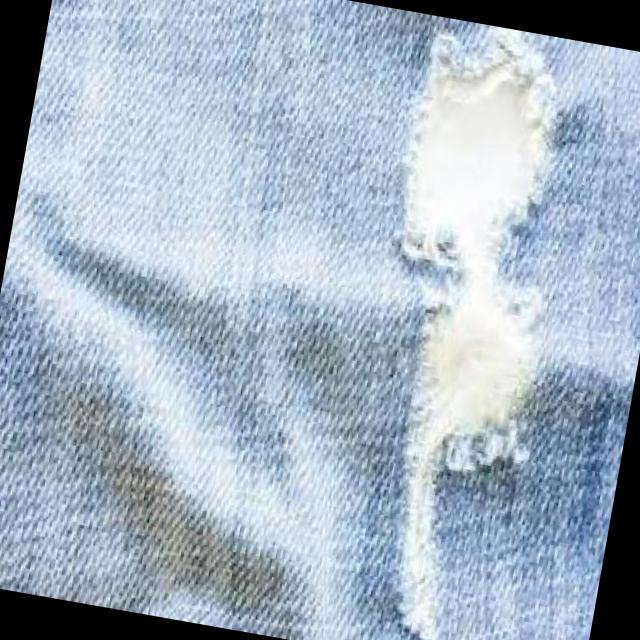hole: (320, 33, 599, 640)
